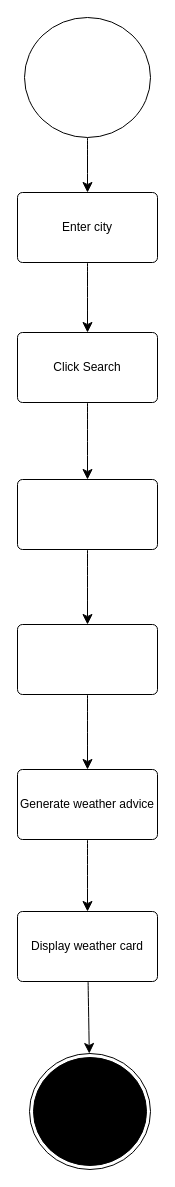
Some shapes in this 175 by 1187 pixel diagram are drawn without their labels. Each missing label, with the centre of its shape:
"Fetch weather from API" goes at point (87, 659).
"Send request to backend" goes at point (87, 514).
